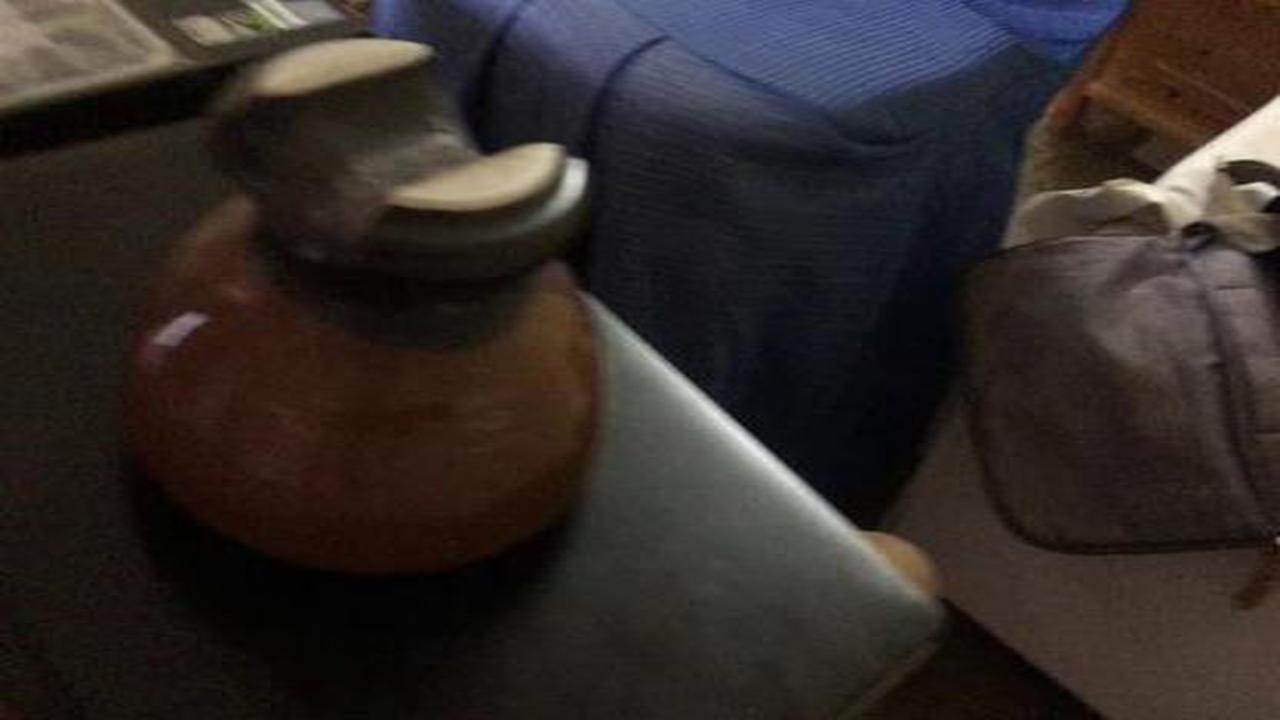insulator_pin: (105, 30, 619, 608)
